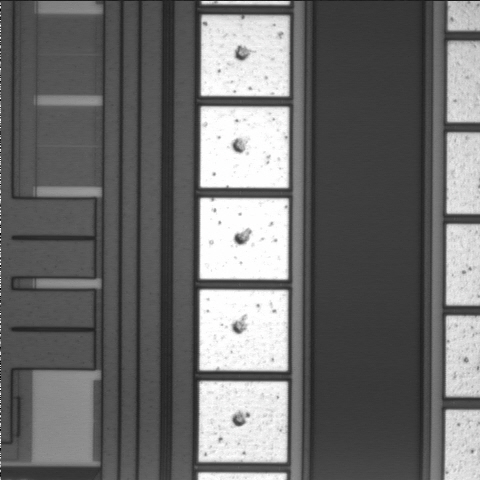pad: (200, 106, 289, 188), (200, 198, 289, 280), (199, 290, 288, 371), (199, 381, 288, 462), (201, 15, 289, 96)
